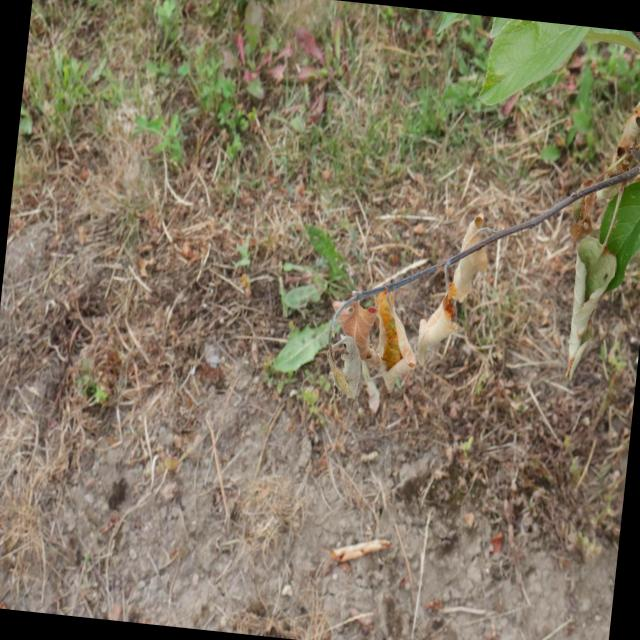-FireBlight-: (318, 275, 417, 398), (408, 294, 461, 366), (450, 218, 485, 316)
